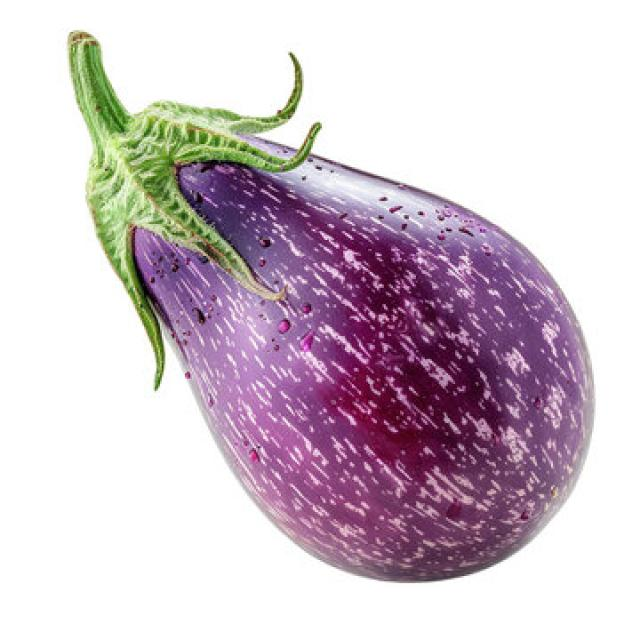Eggplant: (68, 35, 600, 590)
